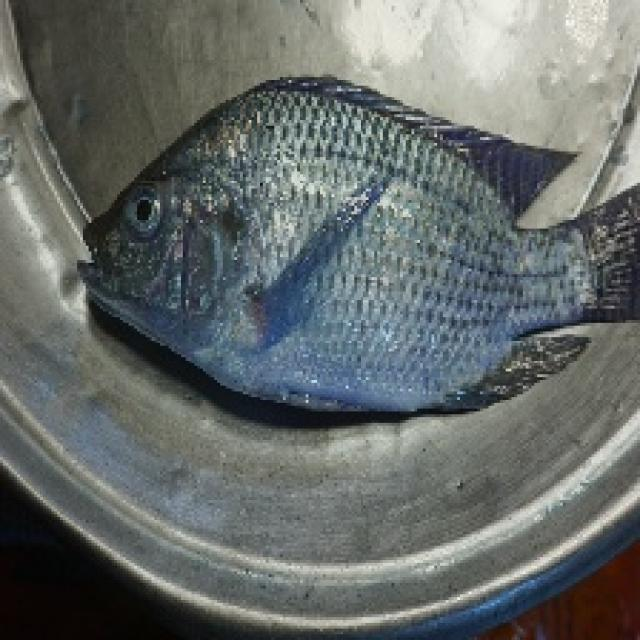Fresh: (71, 67, 640, 404)
